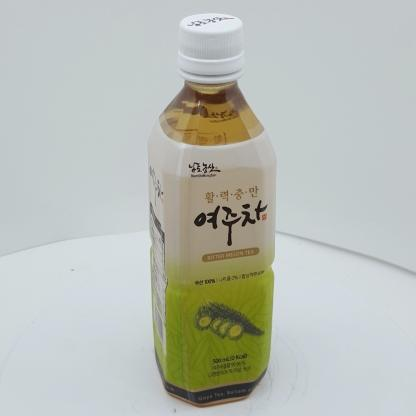-----------500ML: (147, 13, 277, 406)
